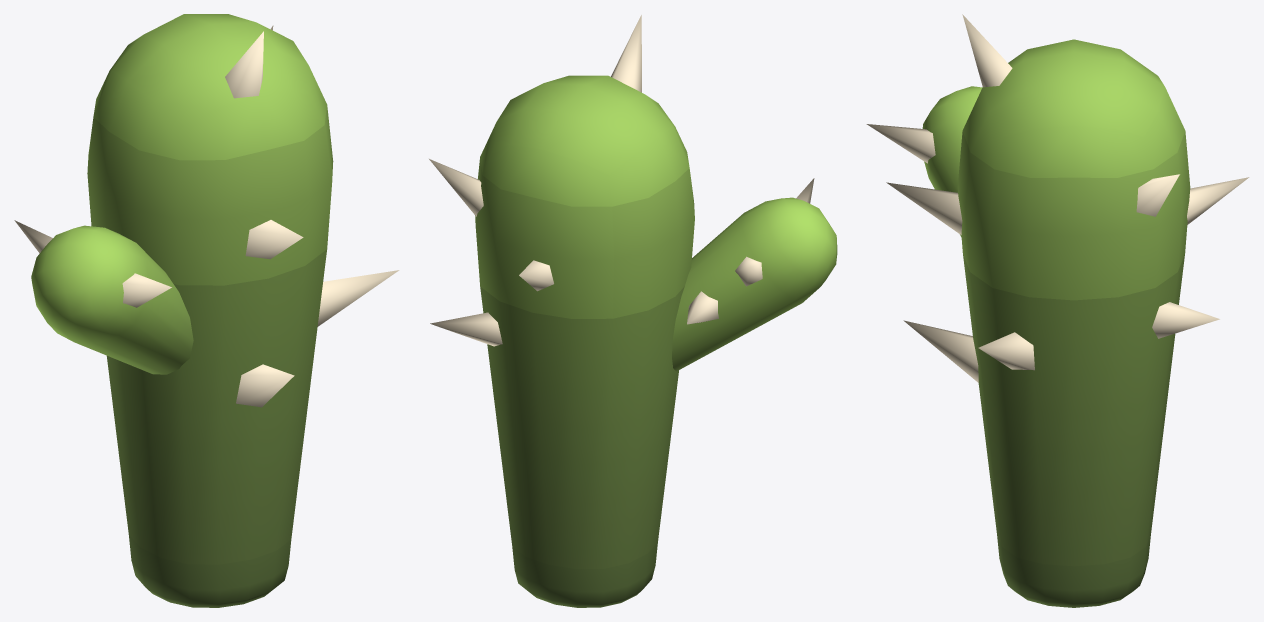
Rendered from cactus_2.fbx.
The picture shows the model from 3 angles, left to right: view 1: azimuth 30°, elevation 25°; view 2: azimuth 150°, elevation 25°; view 3: azimuth 270°, elevation 25°; orthographic projection. The views are drawn at different scales.
Parts seen in each view (by area): view 1: cactus_2; view 2: cactus_2; view 3: cactus_2.
Part boxes in pixels (<box>): cactus_2: <box>14,14,399,607</box>; cactus_2: <box>429,15,837,607</box>; cactus_2: <box>866,14,1249,607</box>.
Bounding box in the file's own units: 88.24 × 139 × 84.99.
Materials: 1 (1 with a texture image).
